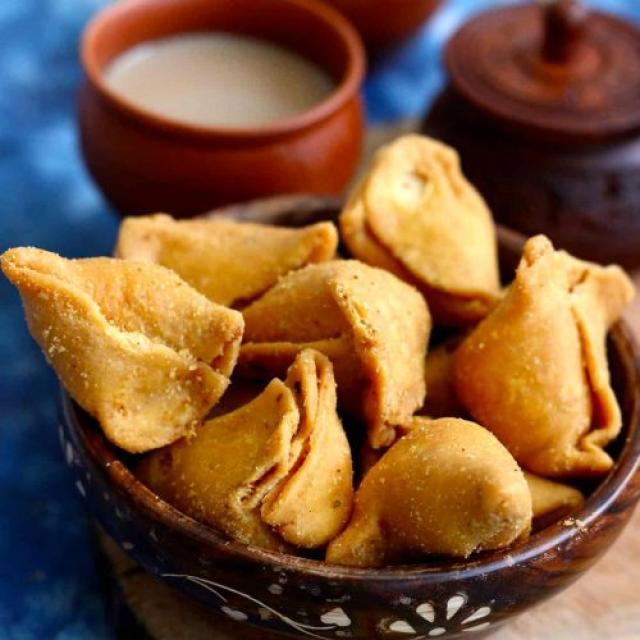SAMOSA: (2, 249, 240, 452), (451, 240, 625, 474), (180, 348, 353, 563), (233, 268, 435, 448), (322, 414, 541, 563), (337, 129, 504, 309), (119, 217, 340, 309)
